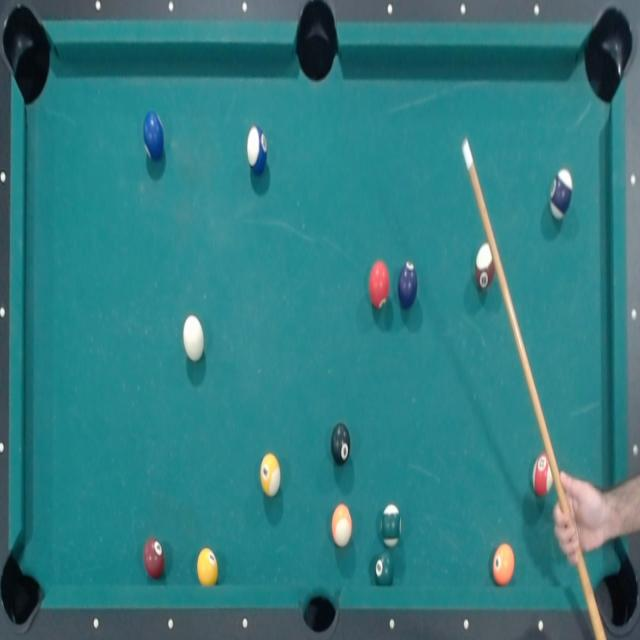black_8ball: (330, 422, 352, 468)
blue_solid: (142, 108, 168, 164)
blue_stripe: (245, 122, 269, 176)
cue_ball: (182, 313, 208, 365)
cue_body: (467, 171, 609, 640)
cue_tip: (459, 134, 477, 171)
green_solid: (373, 547, 395, 589)
green_stripe: (380, 502, 402, 549)
maroon_solid: (143, 535, 166, 582)
maroon_stripe: (474, 242, 498, 290)
orange_solid: (490, 541, 515, 588)
orange_stripe: (330, 502, 354, 550)
player_hand: (548, 456, 624, 572)
purple_solid: (397, 260, 419, 308)
purple_stripe: (548, 168, 574, 223)
red_solid: (367, 260, 391, 310)
red_stripe: (532, 451, 554, 500)
yellow_solid: (196, 543, 219, 593)
yellow_stripe: (260, 452, 281, 498)
